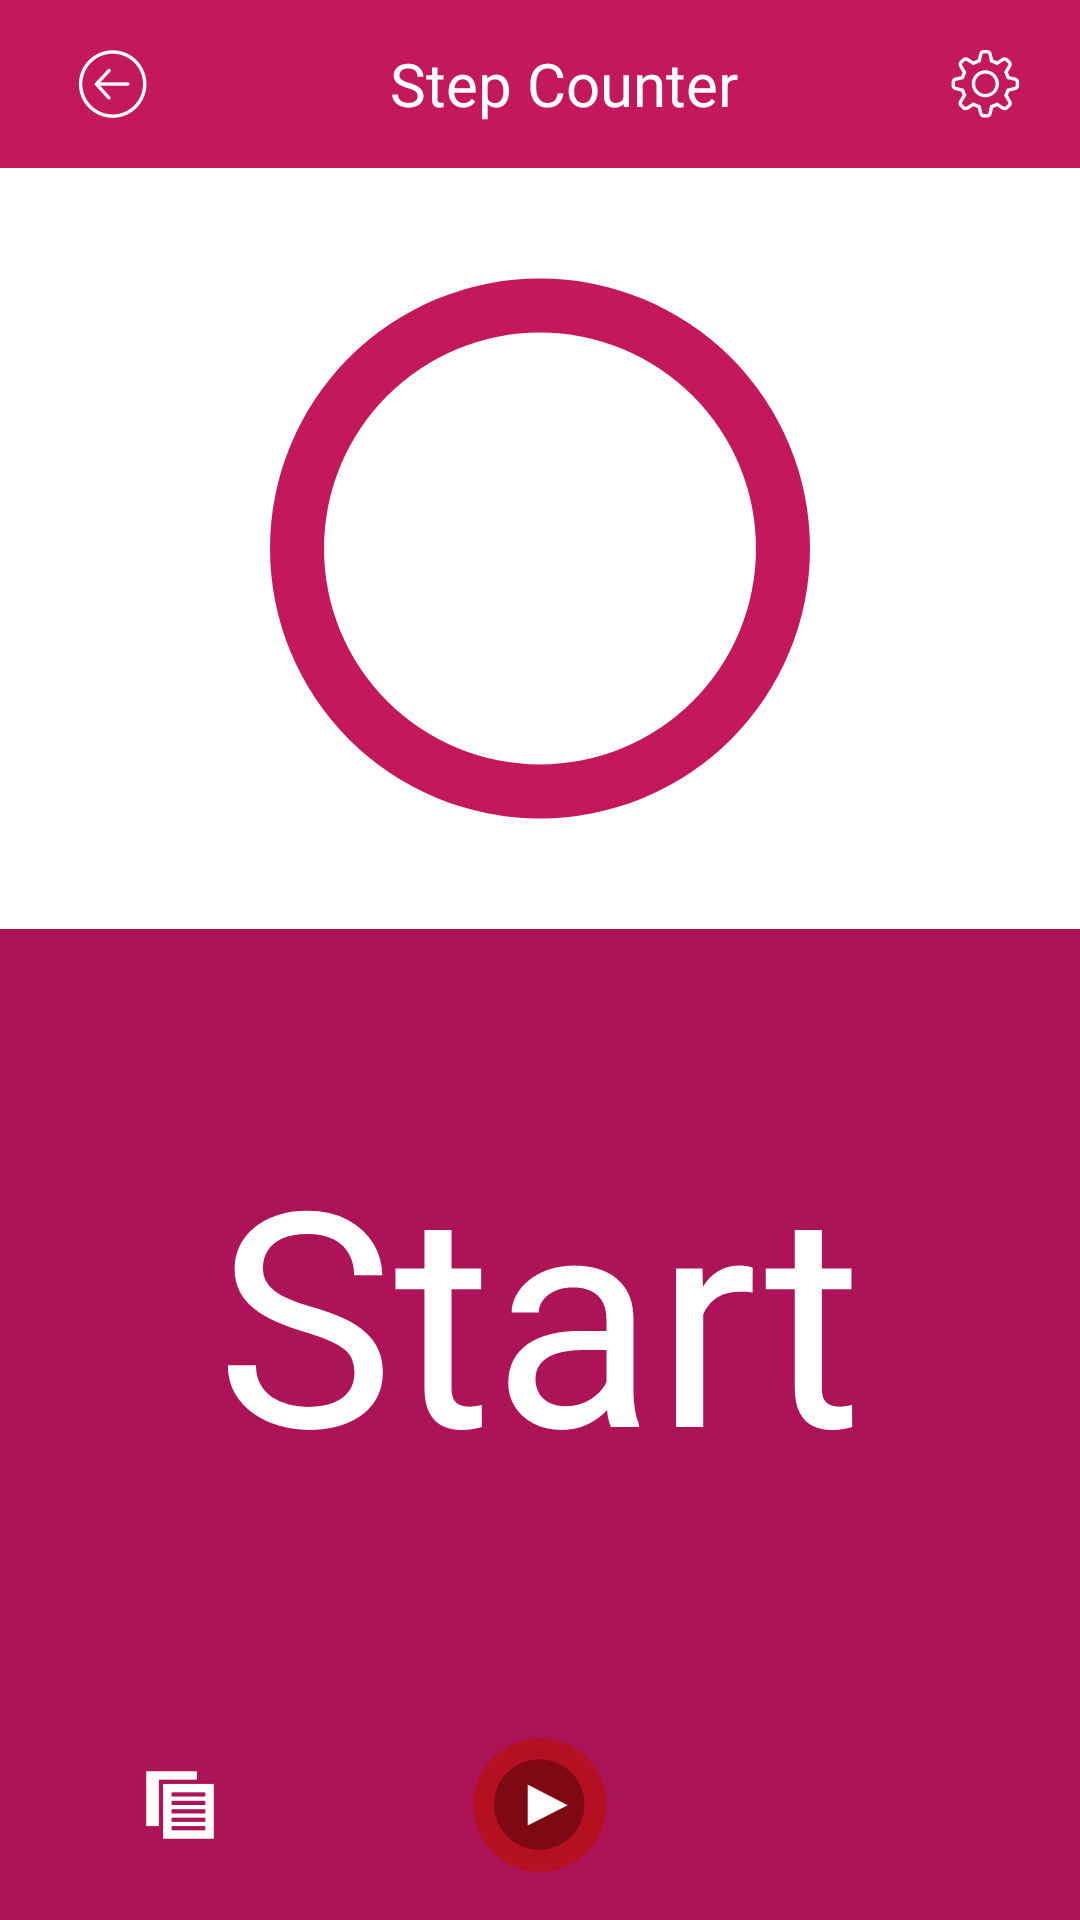

Screen size 1080 x 1920. Icon name, then its box in pixels as (x1, y1, x2, y2):
back arrow: (79, 50, 147, 118)
report: (146, 1771, 214, 1839)
setting: (951, 50, 1019, 118)
start: (473, 1738, 607, 1872)
